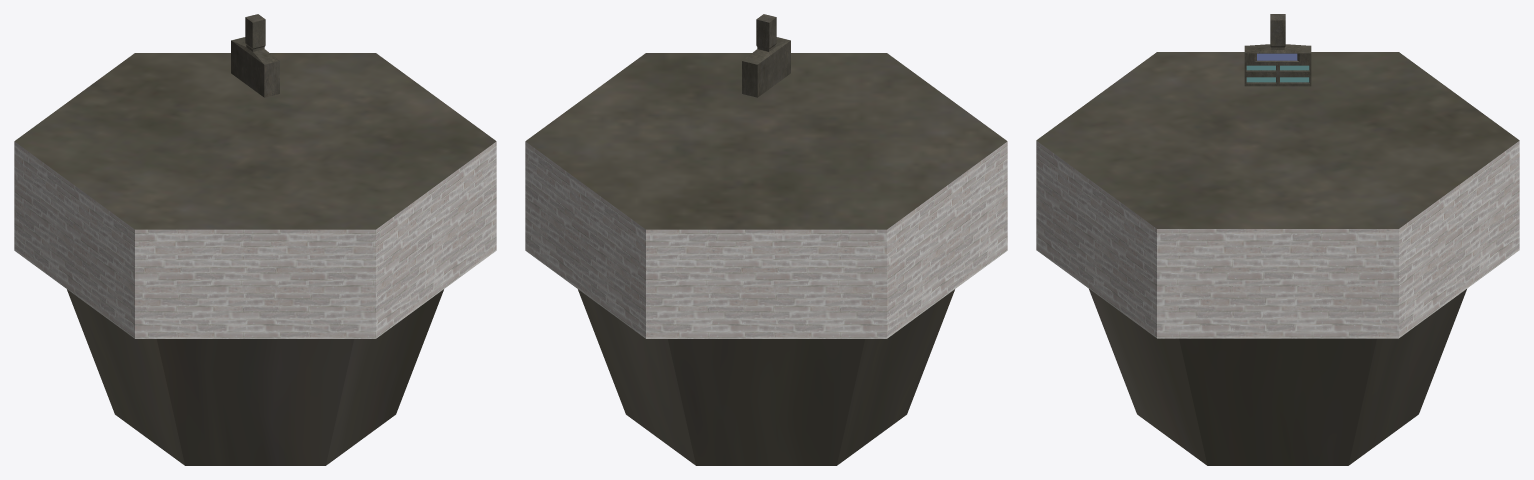
File: vat.fbx
3 views of the same model, side by side, from view 1: azimuth 30°, elevation 25°; view 2: azimuth 150°, elevation 25°; view 3: azimuth 270°, elevation 25° (orthographic).
Visible parts, largest first — view 1: Floor and Ceiling, Walls, Cube; view 2: Floor and Ceiling, Walls, Cube; view 3: Floor and Ceiling, Walls, Cube.
Part boxes in pixels (x1,y1,x2,y2): Floor and Ceiling: (14, 53, 496, 465); Walls: (14, 141, 496, 338); Cube: (231, 14, 279, 97); Floor and Ceiling: (525, 53, 1007, 465); Walls: (525, 141, 1007, 338); Cube: (742, 14, 790, 97); Floor and Ceiling: (1036, 52, 1519, 465); Walls: (1036, 141, 1519, 338); Cube: (1244, 14, 1311, 86).
Size of the model in its own units: 2771 by 2900 by 3200.
